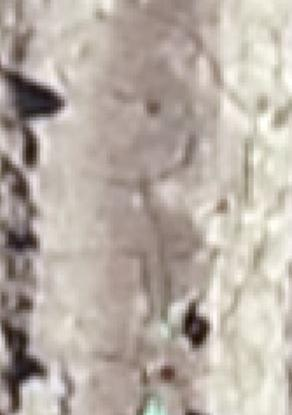cotton: (142, 396, 162, 414), (162, 322, 178, 342)
